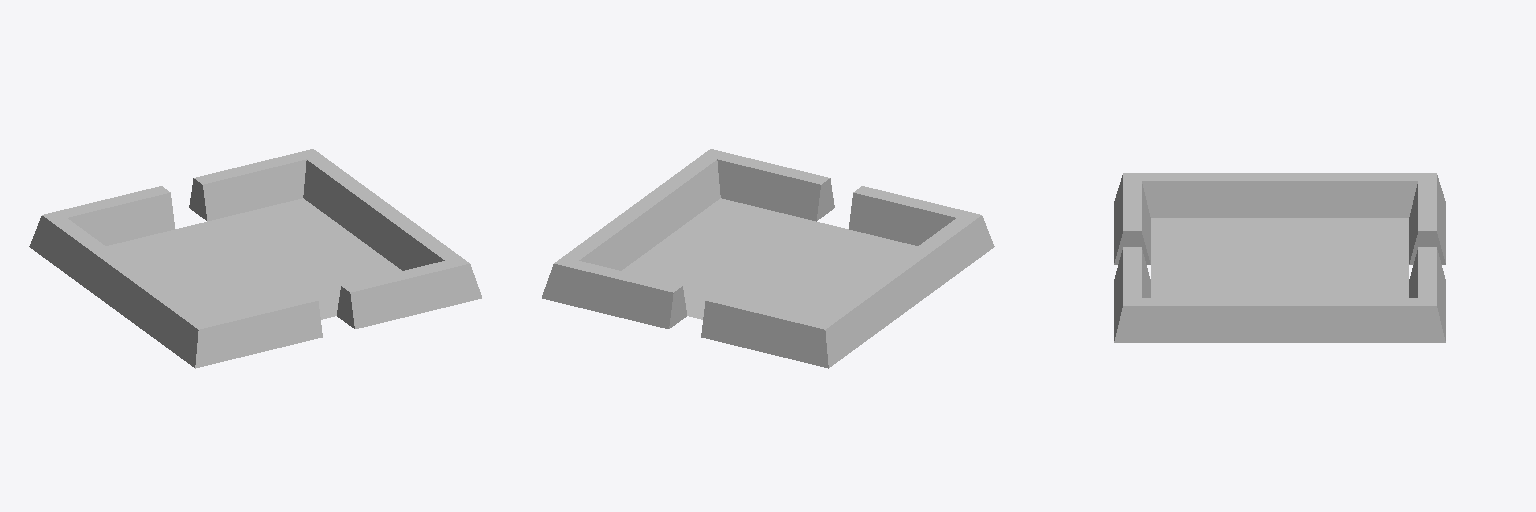
Rendered from sala_9.obj.
3 views of the same model, side by side, from view 1: azimuth 30°, elevation 25°; view 2: azimuth 150°, elevation 25°; view 3: azimuth 270°, elevation 25° (orthographic).
Visible parts, largest first — view 1: Ground_Plane, Wall.000_Cube.011, Wall.007_Cube.017, Wall.002_Cube.014, Wall.004_Cube.015, Wall.006_Cube.016, Wall.005_Cube.002, Wall.003_Cube.010, Wall.001_Cube.012; view 2: Ground_Plane, Wall.002_Cube.014, Wall.005_Cube.002, Wall.000_Cube.011, Wall.006_Cube.016, Wall.004_Cube.015, Wall.007_Cube.017, Wall.001_Cube.012, Wall.003_Cube.010; view 3: Ground_Plane, Wall.003_Cube.010, Wall.001_Cube.012, Wall.004_Cube.015, Wall.006_Cube.016, Wall.005_Cube.002, Wall.007_Cube.017, Wall.000_Cube.011, Wall.002_Cube.014.
Part boxes in pixels (left/top/right/bottom): Ground_Plane: left=106, top=198, right=401, bottom=319; Wall.000_Cube.011: left=337, top=261, right=481, bottom=328; Wall.007_Cube.017: left=195, top=294, right=322, bottom=368; Wall.002_Cube.014: left=189, top=149, right=312, bottom=221; Wall.004_Cube.015: left=29, top=215, right=135, bottom=306; Wall.006_Cube.016: left=112, top=269, right=204, bottom=367; Wall.005_Cube.002: left=44, top=186, right=174, bottom=245; Wall.003_Cube.010: left=303, top=149, right=390, bottom=244; Wall.001_Cube.012: left=368, top=206, right=468, bottom=270; Ground_Plane: left=622, top=198, right=917, bottom=319; Wall.002_Cube.014: left=542, top=261, right=686, bottom=328; Wall.005_Cube.002: left=701, top=294, right=828, bottom=368; Wall.000_Cube.011: left=711, top=149, right=834, bottom=221; Wall.006_Cube.016: left=888, top=215, right=994, bottom=306; Wall.004_Cube.015: left=819, top=269, right=911, bottom=367; Wall.007_Cube.017: left=849, top=186, right=979, bottom=245; Wall.001_Cube.012: left=633, top=149, right=720, bottom=244; Wall.003_Cube.010: left=555, top=206, right=655, bottom=270; Ground_Plane: left=1151, top=218, right=1408, bottom=297; Wall.003_Cube.010: left=1280, top=298, right=1445, bottom=342; Wall.001_Cube.012: left=1114, top=298, right=1279, bottom=342; Wall.004_Cube.015: left=1280, top=173, right=1435, bottom=217; Wall.006_Cube.016: left=1124, top=173, right=1279, bottom=217; Wall.005_Cube.002: left=1409, top=173, right=1445, bottom=264; Wall.007_Cube.017: left=1114, top=173, right=1150, bottom=264; Wall.000_Cube.011: left=1114, top=247, right=1150, bottom=340; Wall.002_Cube.014: left=1409, top=247, right=1445, bottom=340.
Bounding box in the file's own units: 18 × 2 × 18.